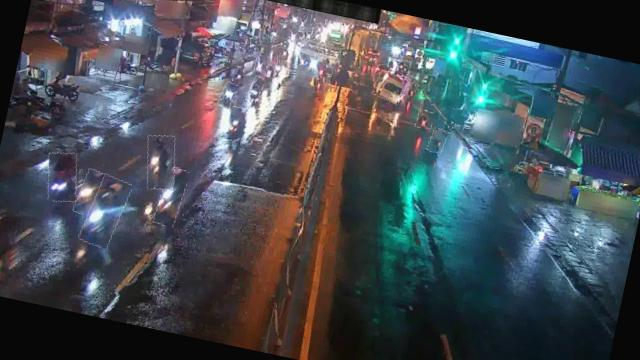Bike: (81, 172, 131, 250), (140, 132, 182, 192), (42, 149, 82, 204), (154, 166, 188, 229), (74, 168, 104, 217), (224, 106, 248, 140), (218, 80, 238, 110), (428, 126, 448, 154), (247, 75, 264, 104), (416, 109, 434, 130), (232, 65, 244, 84), (263, 64, 275, 82), (254, 57, 264, 74)
Bus: (372, 69, 408, 104)
